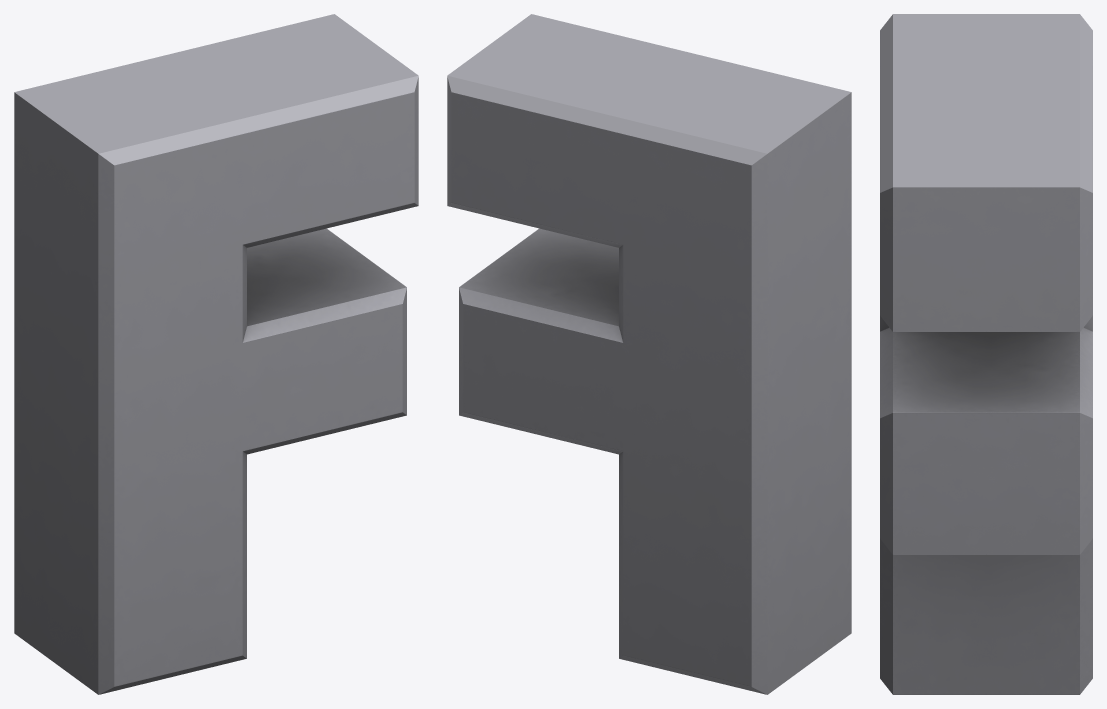
The model's file is F_static.fbx.
The picture shows the model from 3 angles, left to right: view 1: azimuth 30°, elevation 25°; view 2: azimuth 150°, elevation 25°; view 3: azimuth 270°, elevation 25°; orthographic projection. The views are drawn at different scales.
Visible parts, largest first — view 1: F_static; view 2: F_static; view 3: F_static.
Part boxes in pixels (<box>): F_static: <box>14,14,418,694</box>; F_static: <box>447,14,851,694</box>; F_static: <box>880,14,1092,694</box>.
Size of the model in its own units: 63.67 by 103 by 33.
